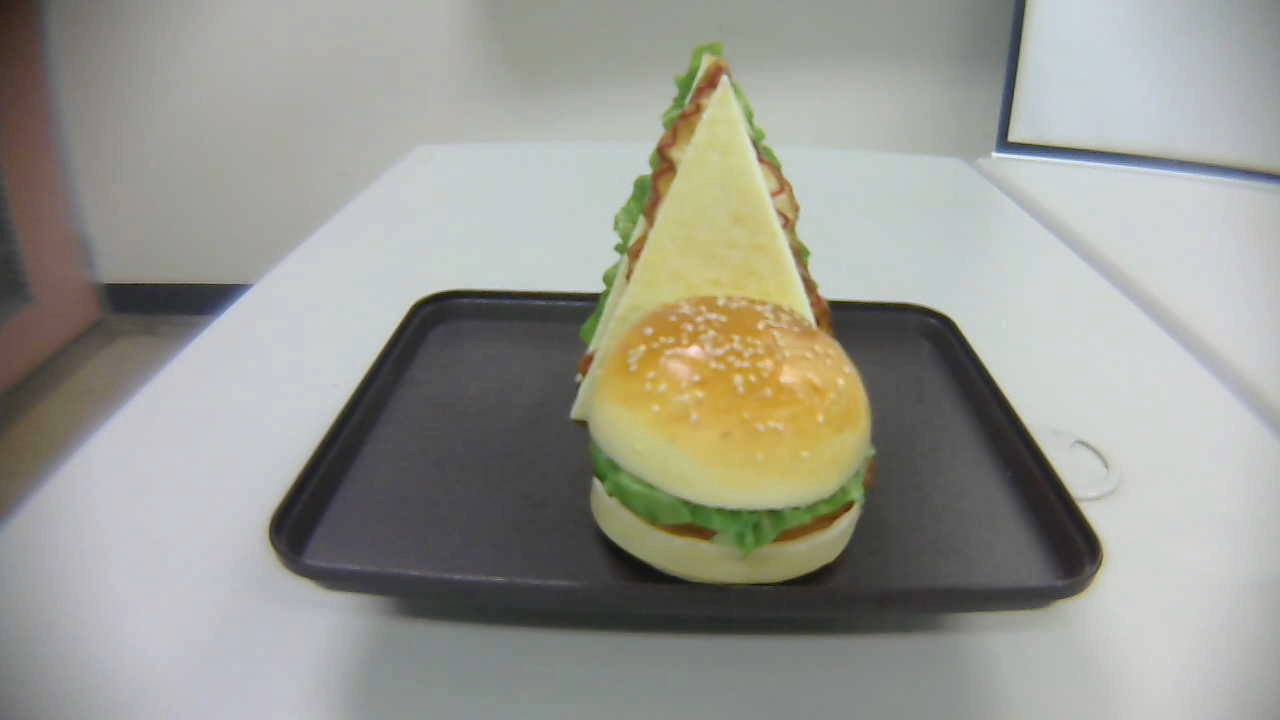hamburger: (589, 295, 873, 586)
sandwich: (570, 41, 837, 423)
